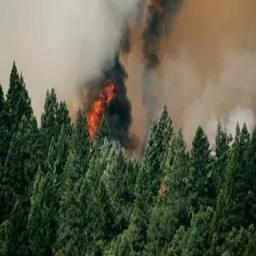Heavy smoke: (115, 0, 256, 146)
Large fire: (81, 75, 118, 167)
